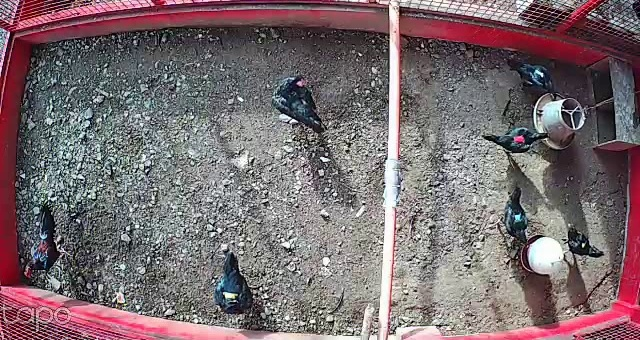Chicken: (272, 74, 326, 132), (211, 250, 258, 313), (480, 122, 553, 161), (552, 217, 607, 266), (506, 56, 560, 105), (494, 183, 535, 245)
Rooster: (20, 203, 73, 280)
Saddle_Color_Blue: (515, 214, 521, 220)
Saddle_Color_Red: (514, 134, 523, 142)
Saddle_Color_White: (536, 70, 543, 77)
Saddle_Color_Yellow: (221, 290, 240, 300)
